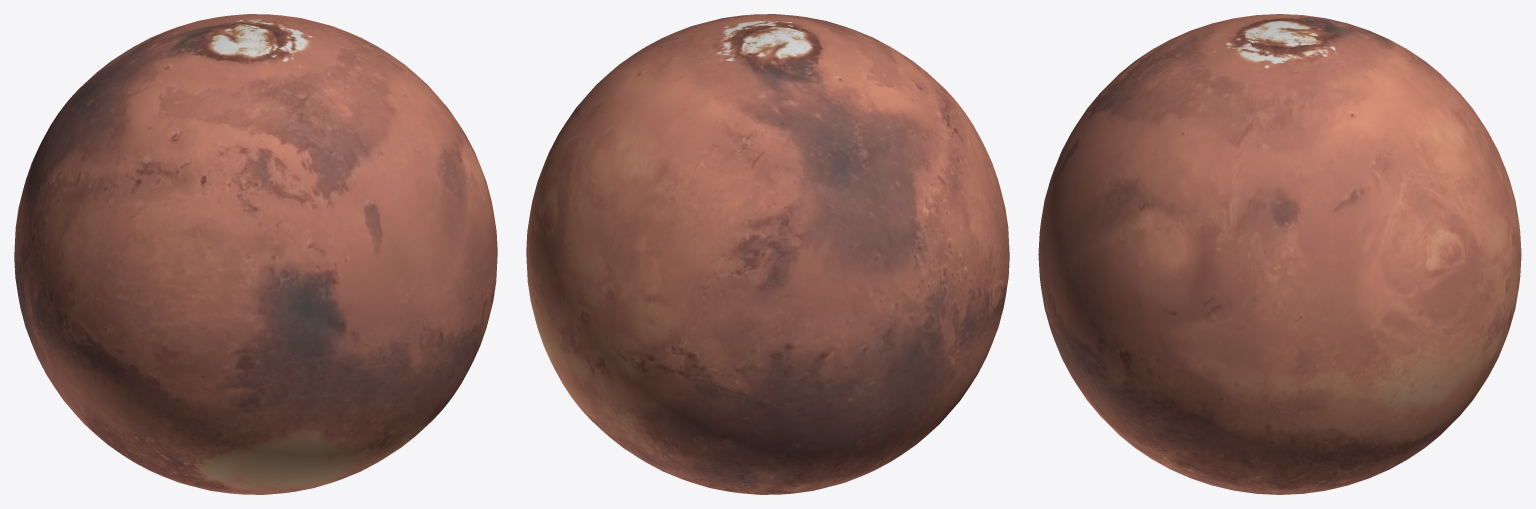
File: mars2.glb
3 views of the same model, side by side, from view 1: azimuth 30°, elevation 25°; view 2: azimuth 150°, elevation 25°; view 3: azimuth 270°, elevation 25° (orthographic).
Visible parts, largest first — view 1: Cube.008; view 2: Cube.008; view 3: Cube.008.
Part boxes in pixels (x1=…): Cube.008: x1=14, y1=14, x2=497, y2=494; Cube.008: x1=526, y1=14, x2=1009, y2=494; Cube.008: x1=1038, y1=14, x2=1521, y2=494.
Bounding box in the file's own units: 1000 × 994 × 1000.
1 material, 1 textured.
